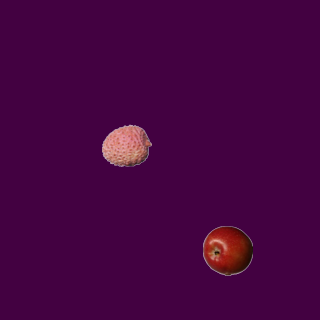Apple Braeburn: (202, 225, 252, 275)
Lychee: (101, 120, 151, 170)
